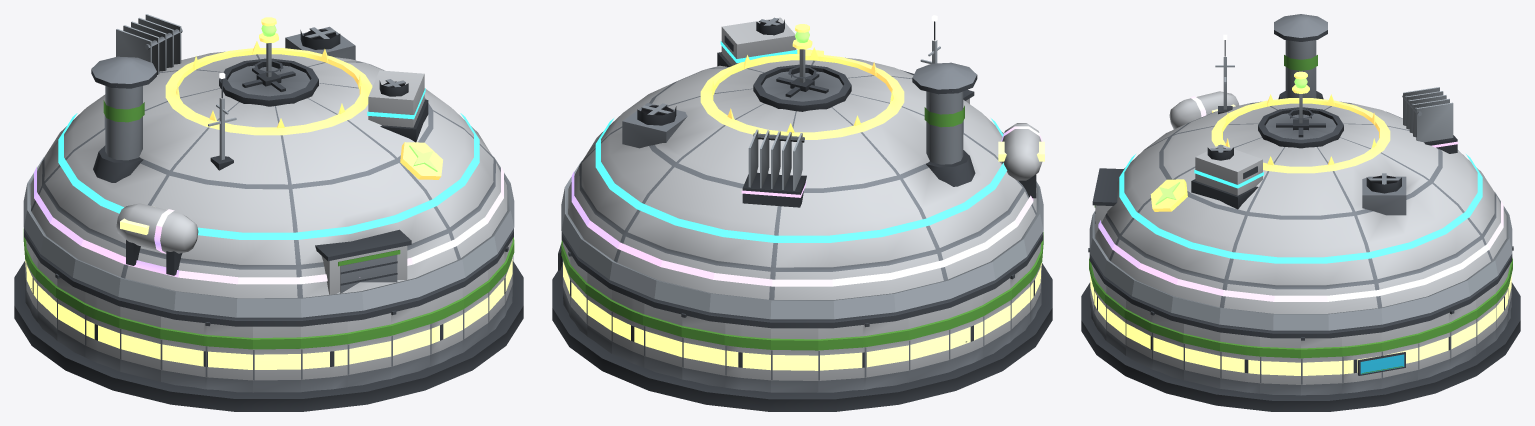
Rendered from kitchen.glb.
3 views of the same model, side by side, from view 1: azimuth 30°, elevation 25°; view 2: azimuth 150°, elevation 25°; view 3: azimuth 270°, elevation 25° (orthographic). The views are drawn at different scales.
Parts seen in each view (by area): view 1: Roof, Base, L3, L5, L4, Wall_21, Wall_20, Wall_22, Wall_19, Wall_23, Wall_18, Wall_24 (+23 smaller); view 2: Roof, Base, L3, L4, L5, Wall_10, Wall_11, Wall_09, Wall_12, Wall_08, Wall_13, Wall_07 (+22 smaller); view 3: Roof, Base, L3, L5, L4, Wall_00, Wall_31, Wall_30, Wall_29, Wall_01, Wall_28, Wall_03 (+18 smaller).
Part boxes in pixels (x1,y1,x2,y2): Roof: (24, 26, 513, 326); Base: (14, 260, 523, 411); L3: (58, 60, 479, 239); L5: (165, 17, 442, 179); L4: (116, 14, 198, 275); Wall_21: (253, 326, 300, 392); Wall_20: (205, 322, 252, 392); Wall_22: (301, 321, 347, 392); Wall_19: (160, 316, 205, 389); Wall_23: (347, 313, 391, 386); Wall_18: (119, 306, 160, 381); Wall_24: (391, 301, 430, 378); Roof: (561, 57, 1043, 328); Base: (552, 263, 1052, 411); L3: (595, 17, 1007, 242); L4: (741, 123, 1044, 207); L5: (700, 24, 904, 139); Wall_10: (771, 328, 818, 392); Wall_11: (818, 324, 864, 392); Wall_09: (724, 323, 770, 392); Wall_12: (864, 318, 909, 389); Wall_08: (681, 313, 725, 387); Wall_13: (908, 308, 949, 382); Wall_07: (643, 303, 682, 379); Roof: (1089, 14, 1512, 338); Base: (1081, 282, 1520, 411); L3: (1119, 109, 1482, 263); L5: (1150, 71, 1390, 211); L4: (1169, 87, 1458, 153); Wall_00: (1301, 337, 1342, 395); Wall_31: (1259, 337, 1300, 395); Wall_30: (1220, 332, 1259, 393); Wall_29: (1183, 324, 1220, 388); Wall_01: (1342, 332, 1381, 393); Wall_28: (1150, 311, 1183, 380); Wall_03: (1418, 312, 1450, 380).
Bounding box in the file's own units: 8.92 × 5.51 × 8.92.
